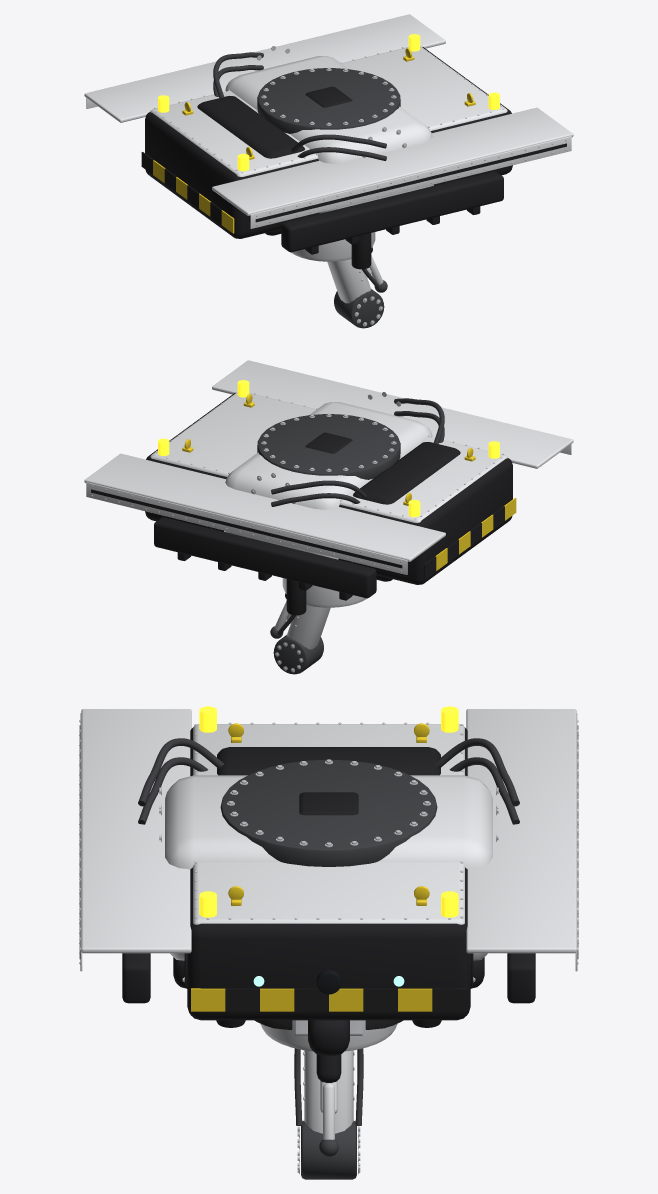
File: robot_pesado.glb
3 renders of one model, top to bottom at view 1: azimuth 30°, elevation 25°; view 2: azimuth 150°, elevation 25°; view 3: azimuth 270°, elevation 25°, orthographic. The views are drawn at different scales.
Parts seen in each view (by area): view 1: robot, torso, brazoDer, piernaMedia; view 2: robot, torso, brazoDer, piernaMedia; view 3: robot, torso, brazoDer, piernaMedia, codoDer, brazoIzq.
Boxes of the visible parts, box(x1,y1,x2,y2) form: robot: box(84, 14, 573, 254); torso: box(197, 46, 433, 235); brazoDer: box(327, 247, 387, 328); piernaMedia: box(291, 232, 375, 269); robot: box(84, 360, 573, 600); torso: box(224, 392, 460, 581); brazoDer: box(270, 593, 330, 674); piernaMedia: box(282, 578, 366, 615); robot: box(79, 706, 578, 1020); torso: box(138, 738, 519, 988); brazoDer: box(294, 1048, 356, 1179); piernaMedia: box(216, 1020, 441, 1051); codoDer: box(295, 1020, 349, 1055); brazoIzq: box(353, 1048, 363, 1174).
Bounding box in the file's own units: 4.2 × 2.35 × 3.6.
